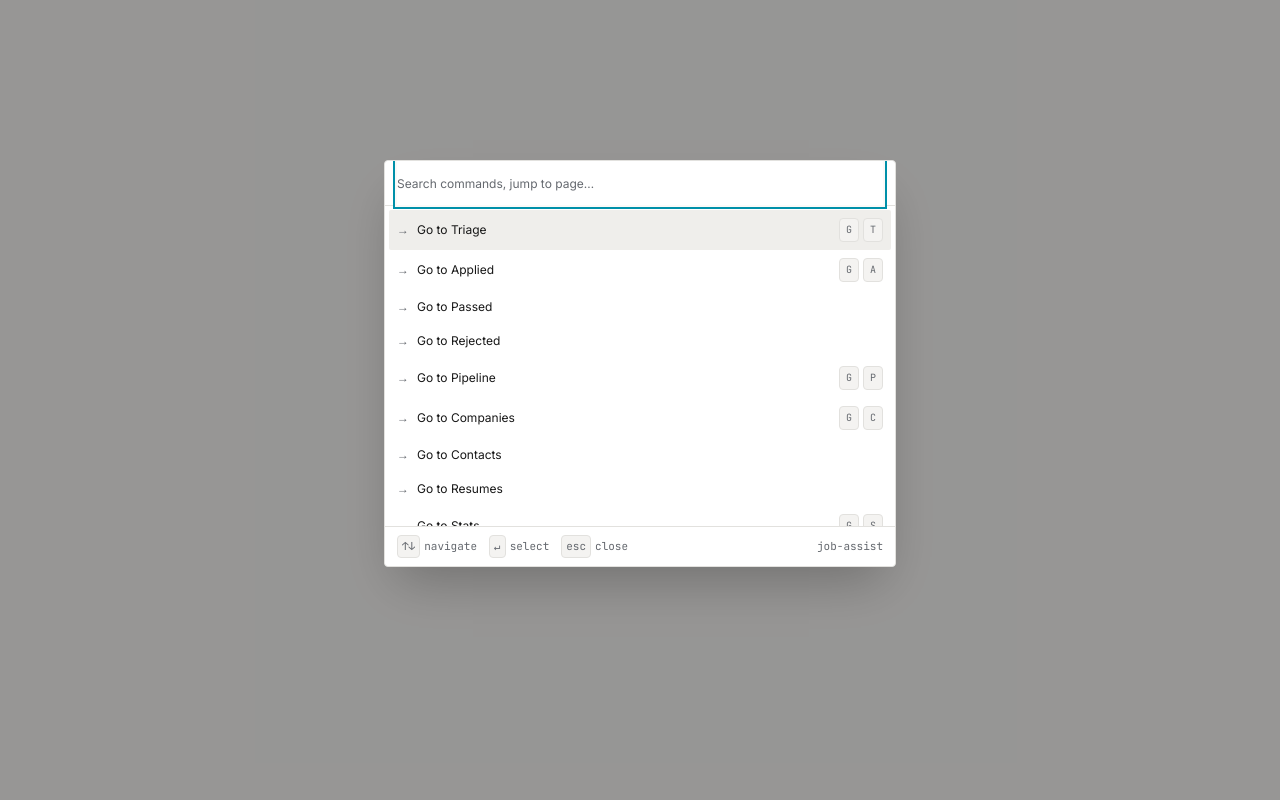
CommandPalette › filters items by substring match (case-insensitive)
Type "stats" into the dropdown with placeholder "Search commands, jump to page…" at {"x": 640, "y": 183}, box [397, 161, 883, 205]
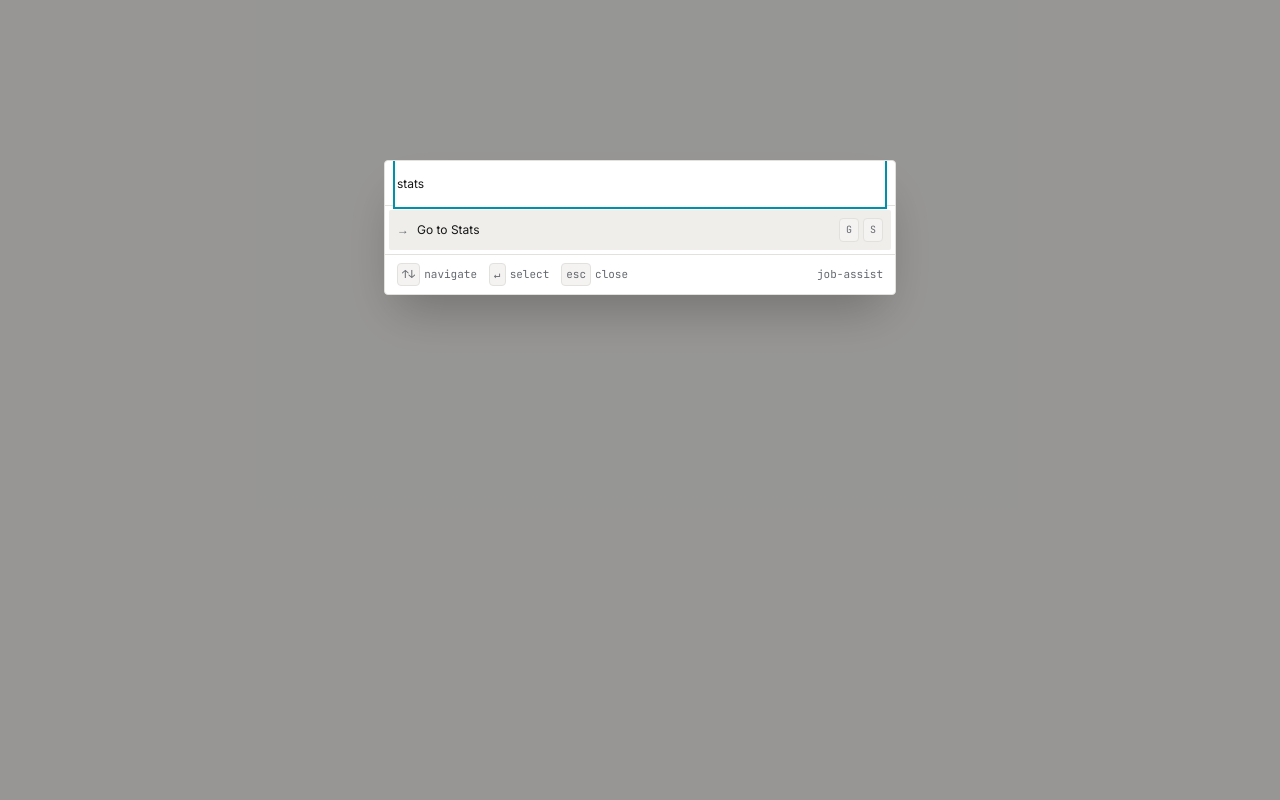
Check: the text "Go to Stats" is shown, box [417, 222, 480, 237]
Check: the option "Go to Pipeline" is gone
